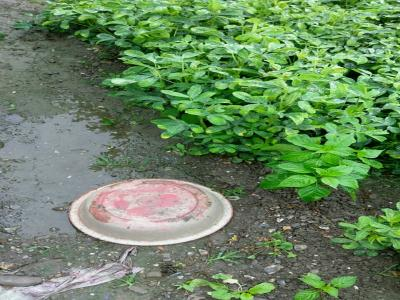plate: (61, 172, 237, 250)
